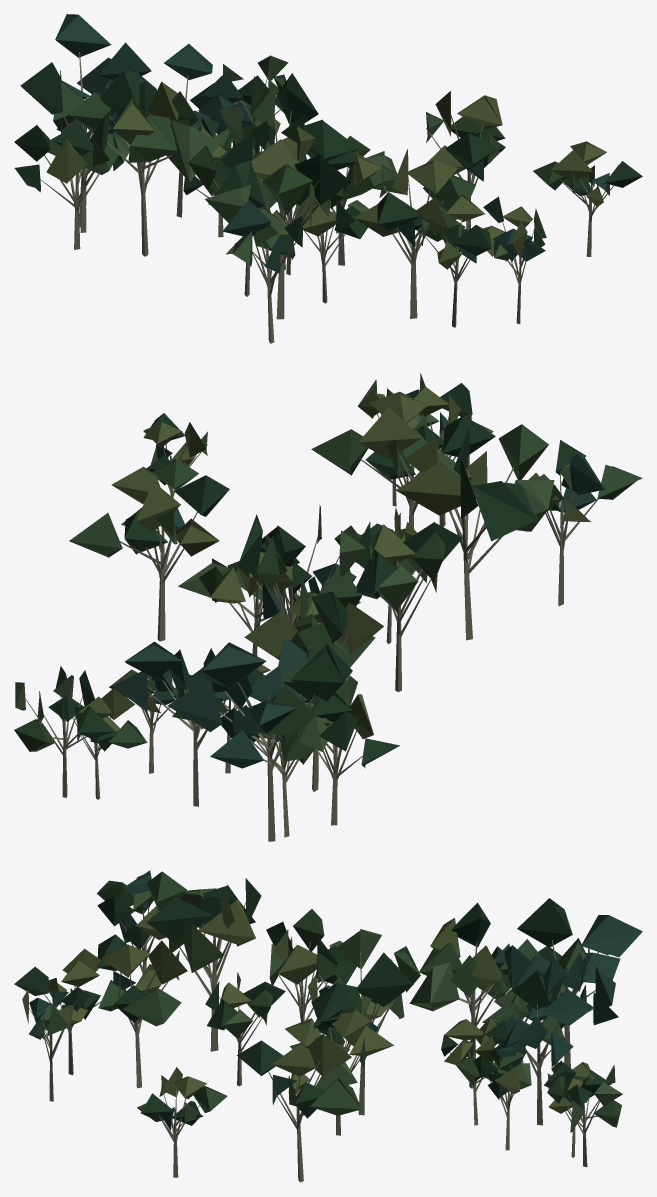
The model's file is forest_26_22.dae.
3 renders of one model, top to bottom at view 1: azimuth 30°, elevation 25°; view 2: azimuth 150°, elevation 25°; view 3: azimuth 270°, elevation 25°, orthographic. The views are drawn at different scales.
Parts seen in each view (by area): view 1: Node; view 2: Node; view 3: Node.
Part boxes in pixels (left/top/right/bottom): Node: left=14, top=14, right=642, bottom=343; Node: left=14, top=373, right=642, bottom=841; Node: left=14, top=870, right=642, bottom=1182.
Bounding box in the file's own units: 7.74 × 10.49 × 3.92.
